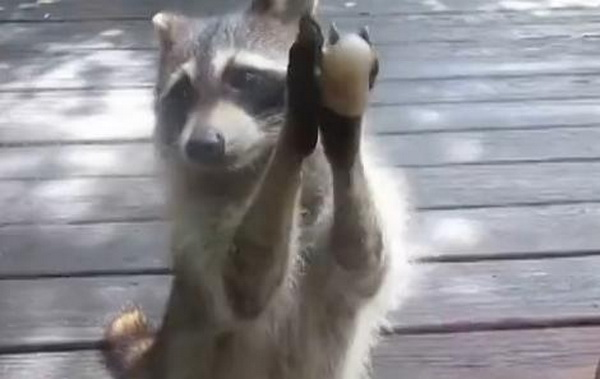raccoon: (92, 1, 412, 379)
